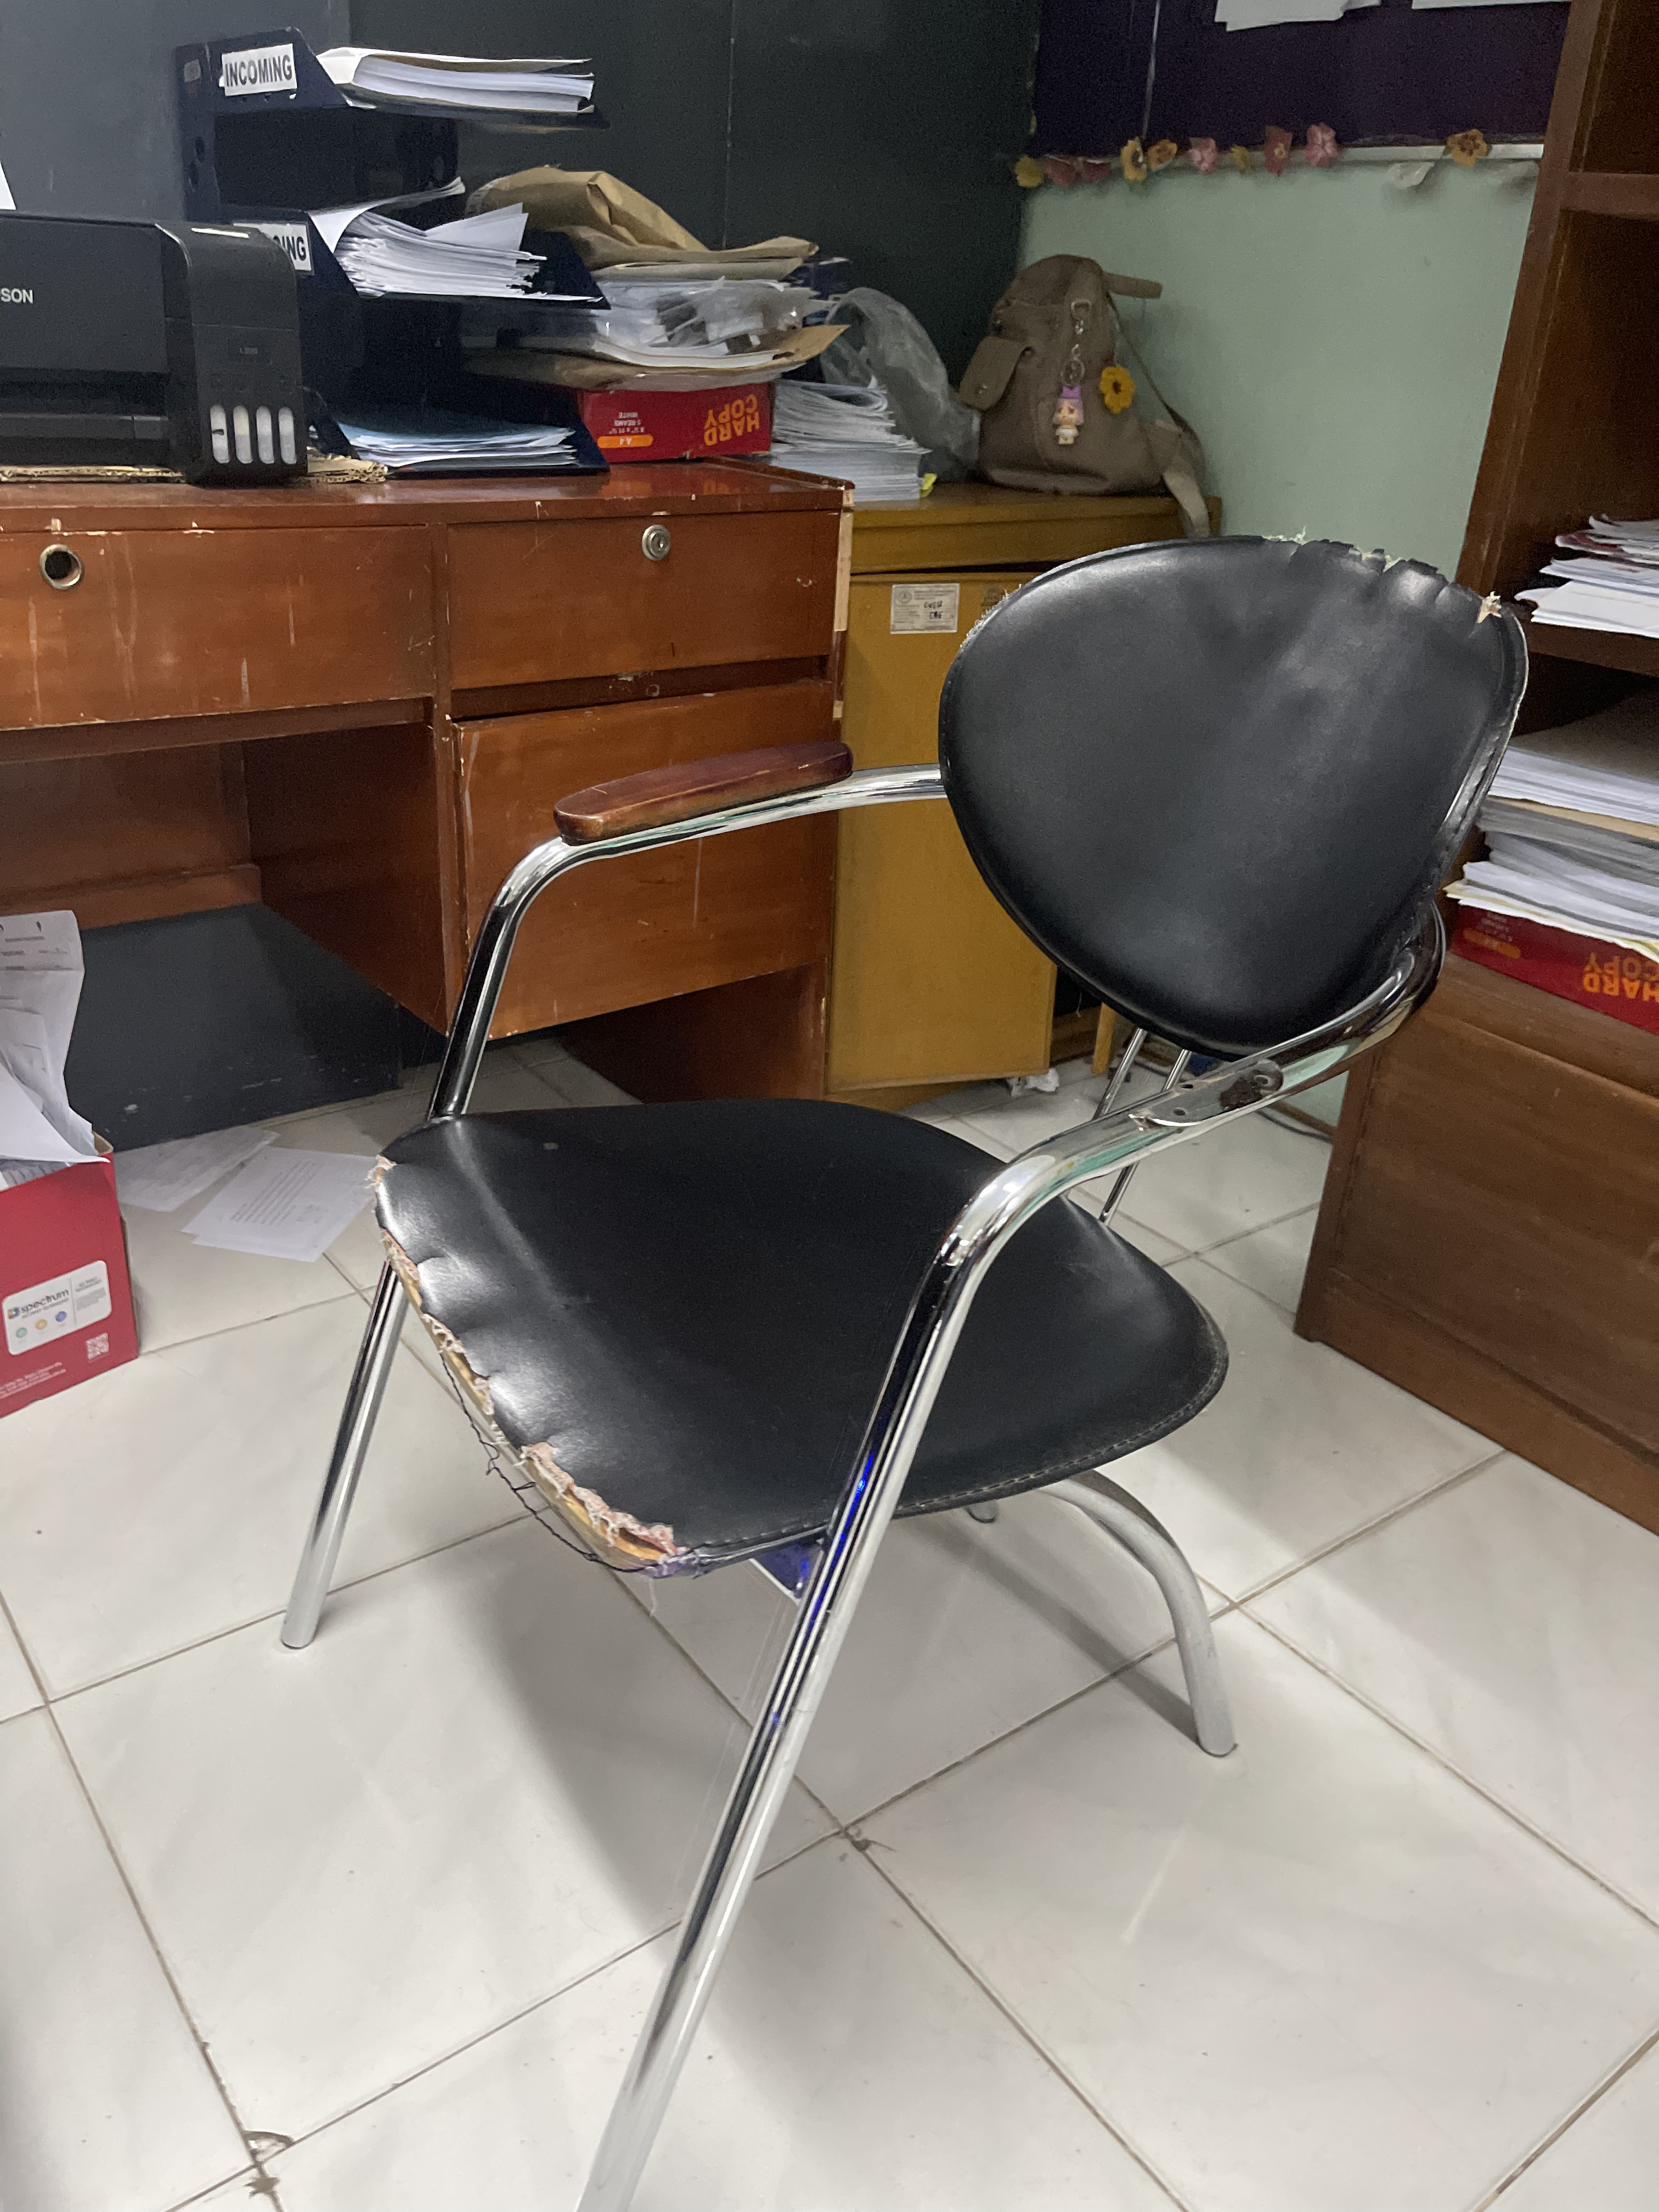chair1: (281, 543, 1537, 2212)
